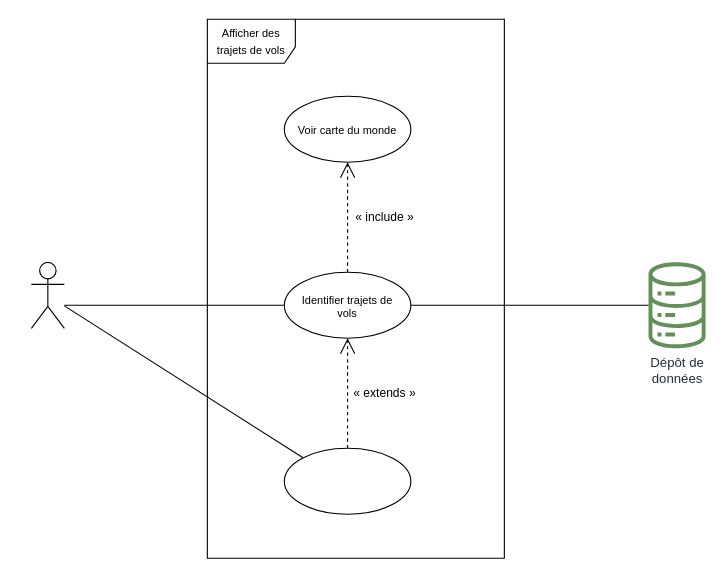
Image size: 726x578. Some labels were removed from this diagram. The shapes that lost their labels are listed below. From the top down, each one's centre as x and y in pixels, then its label:
At [47,294]: "Utilisateur".
At [347,480]: "Changer la date de début d'affichage".
